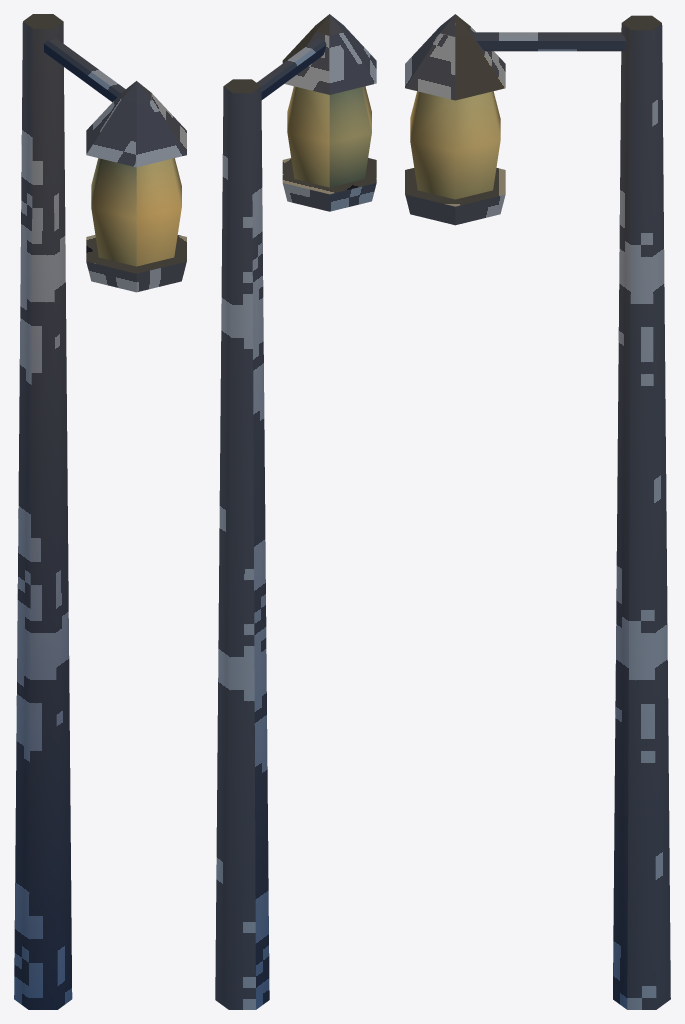
The model's file is wprop.lantern__post.glb.
3 renders of one model, left to right at view 1: azimuth 30°, elevation 25°; view 2: azimuth 150°, elevation 25°; view 3: azimuth 270°, elevation 25°, orthographic. The views are drawn at different scales.
Visible parts, largest first — view 1: kit_post, kit_glass, kit_cap, kit_base, kit_arm; view 2: kit_post, kit_glass, kit_cap, kit_base, kit_arm; view 3: kit_post, kit_glass, kit_cap, kit_base, kit_arm.
Boxes of the visible parts, x1=… form: kit_post: x1=14, y1=14, x2=72, y2=1009; kit_glass: x1=91, y1=158, x2=181, y2=266; kit_cap: x1=86, y1=81, x2=186, y2=167; kit_base: x1=86, y1=235, x2=186, y2=292; kit_arm: x1=43, y1=38, x2=125, y2=102; kit_post: x1=215, y1=79, x2=269, y2=1009; kit_glass: x1=287, y1=86, x2=371, y2=187; kit_cap: x1=282, y1=14, x2=376, y2=94; kit_base: x1=282, y1=158, x2=376, y2=211; kit_arm: x1=257, y1=38, x2=326, y2=99; kit_post: x1=613, y1=15, x2=670, y2=1009; kit_glass: x1=410, y1=91, x2=500, y2=199; kit_cap: x1=405, y1=14, x2=505, y2=100; kit_base: x1=405, y1=168, x2=505, y2=225; kit_arm: x1=474, y1=32, x2=626, y2=51.
Size of the model in its own units: 0.28 by 2.62 by 0.6412.
3 materials, 2 textured.
